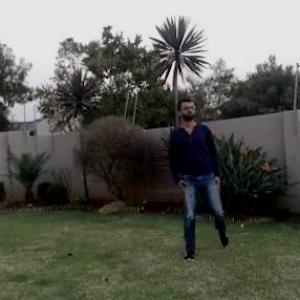follow: (168, 91, 223, 260)
